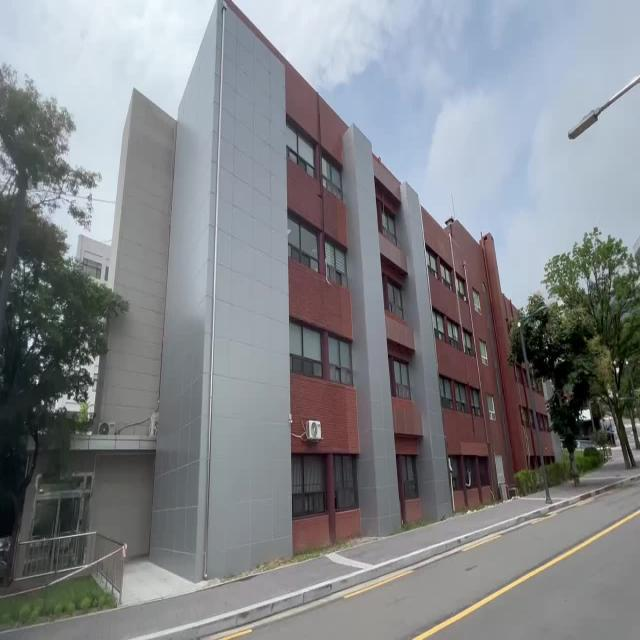building: (160, 95, 509, 521)
